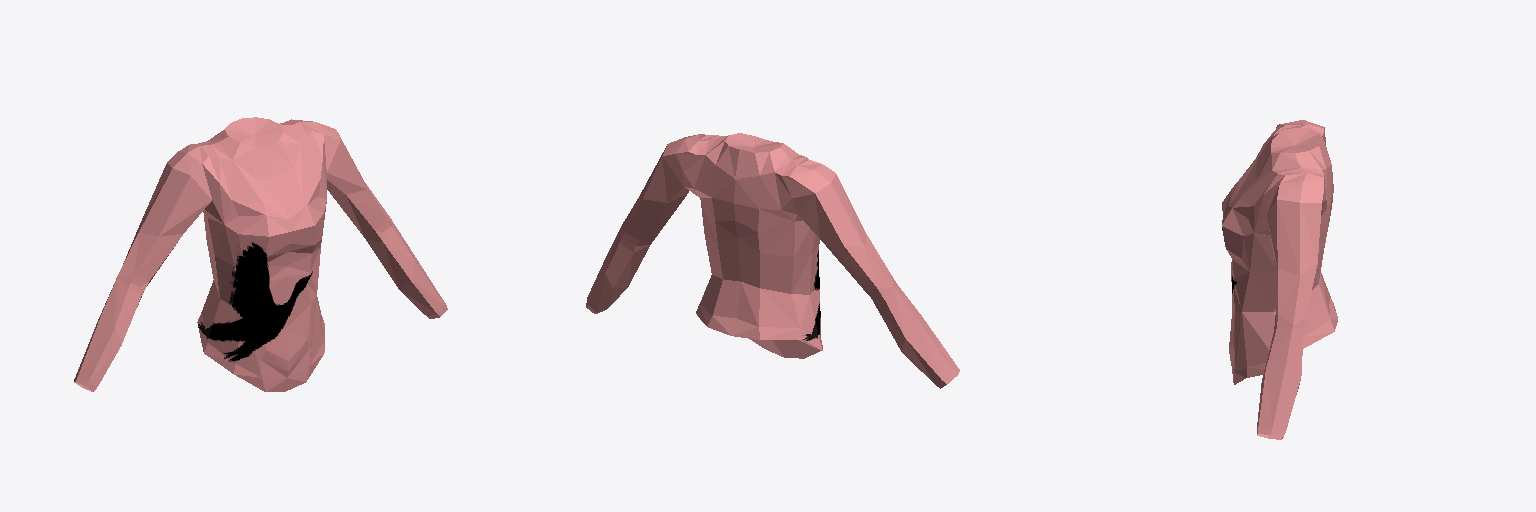
The picture shows the model from 3 angles: view 1: azimuth 30°, elevation 25°; view 2: azimuth 150°, elevation 25°; view 3: azimuth 270°, elevation 25°; orthographic projection.
Visible parts, largest first — view 1: Upper_Body.001_Mesh.004; view 2: Upper_Body.001_Mesh.004; view 3: Upper_Body.001_Mesh.004.
Part boxes in pixels (bbox=[...]): Upper_Body.001_Mesh.004: bbox=[74, 117, 447, 391]; Upper_Body.001_Mesh.004: bbox=[586, 133, 959, 388]; Upper_Body.001_Mesh.004: bbox=[1222, 120, 1337, 439].
Size of the model in its own units: 0.5287 by 0.3283 by 0.1448.
1 materials, 1 textured.